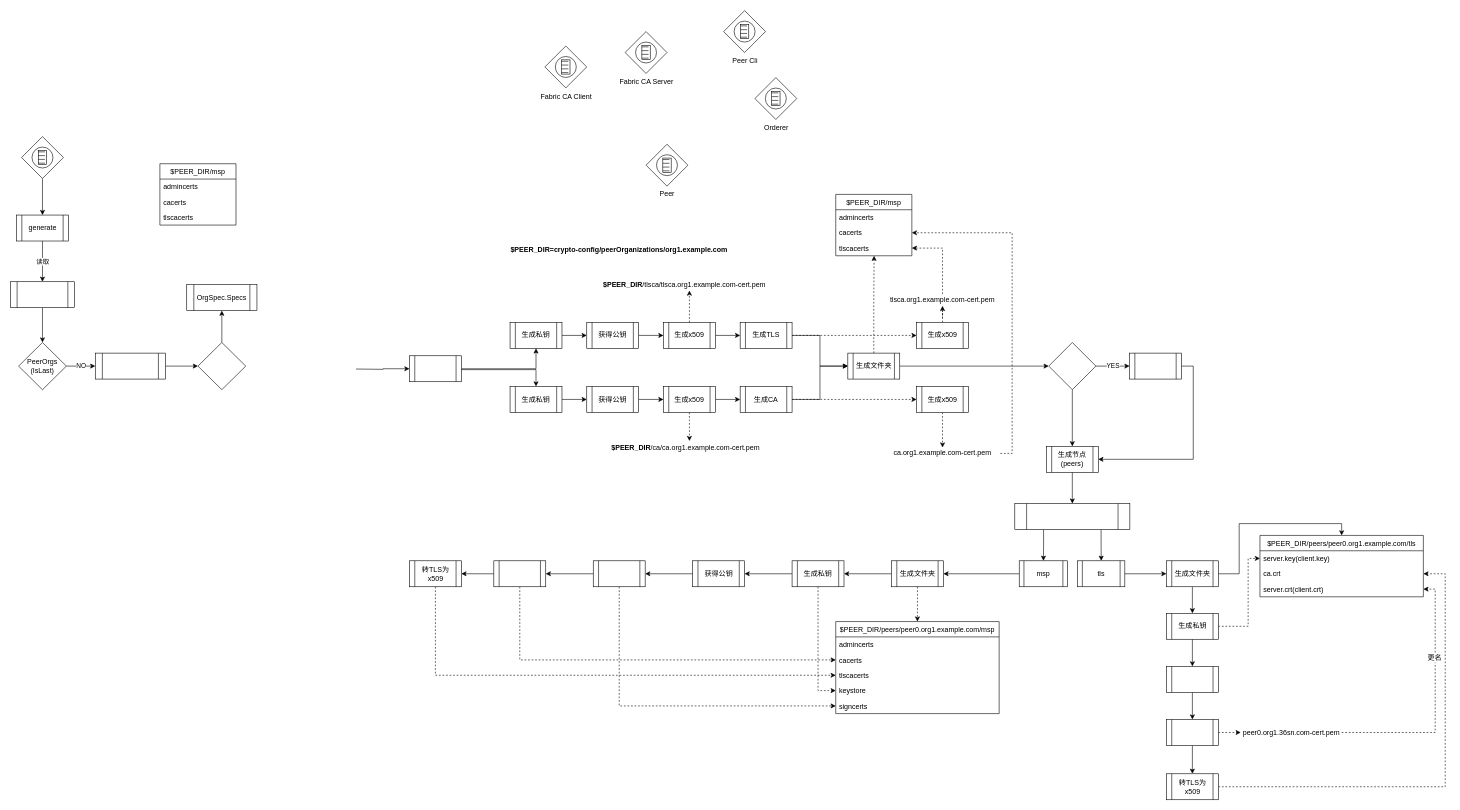
Some shapes in this 1460 by 810 pixel diagram are drawn without their labels. The centre of each missing label's shape, as x and y in pixels:
CA签x509: the point at 619,573
config.yaml: the point at 1155,366
crypto-config.yaml: the point at 42,294
cryptogen: the point at 42,157
generate PeerOrg: the point at 435,368
nodeOUs: the point at 1072,366
OrgSpec. Tpl.cnt>0: the point at 221,366
peer0.org1.example.com: the point at 1072,516
renderOrgSpec: the point at 130,366
TLS签x509: the point at 1192,732
获取公钥: the point at 1192,679
转CA为x509: the point at 519,573
